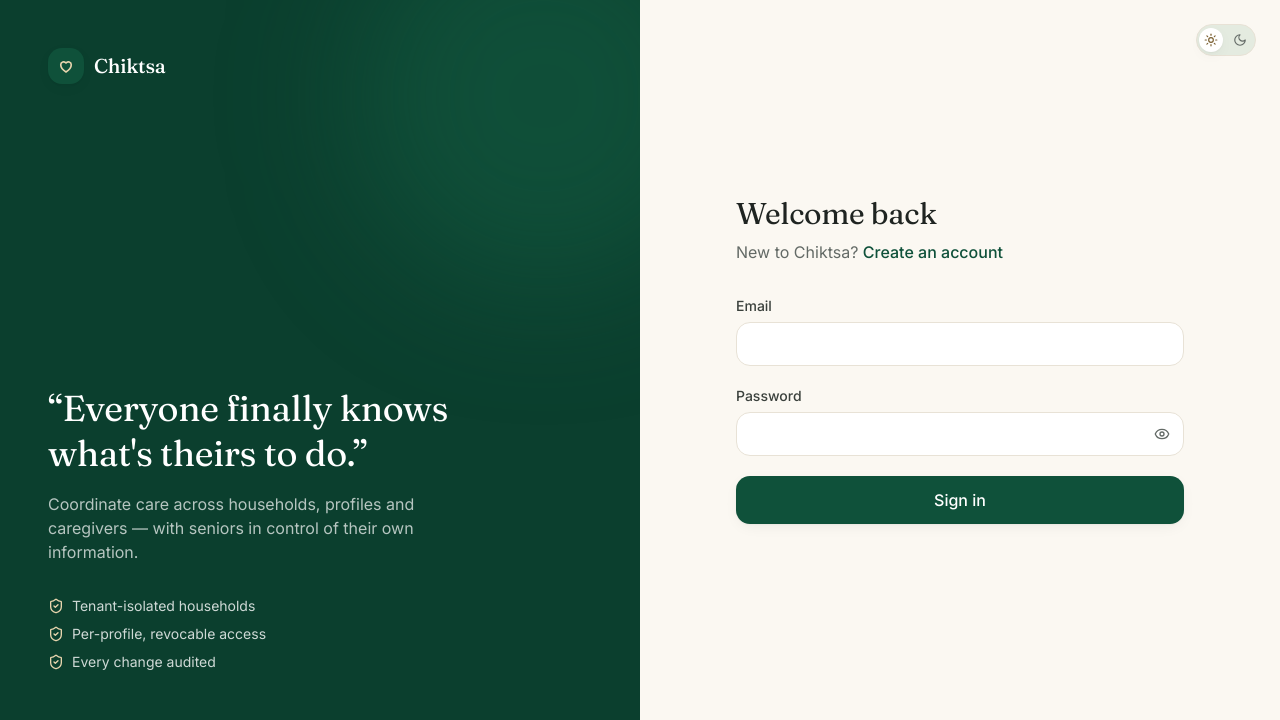
Test: LoginPage › shows the server error and stays on the page when login fails
In the field labelled "Email": (960, 344) [736,322,1184,366], type "a@example.com"
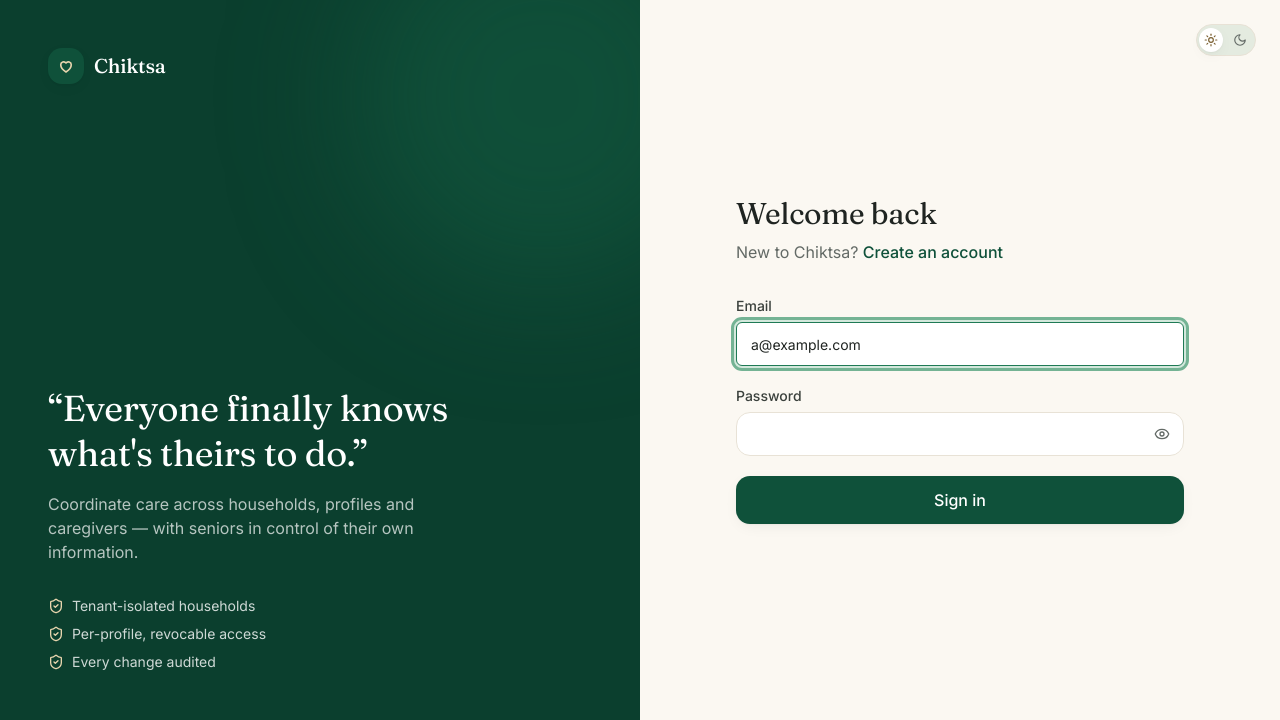
In the password field labelled "Password": (960, 434) [736,412,1184,456], type "wrongpass1"
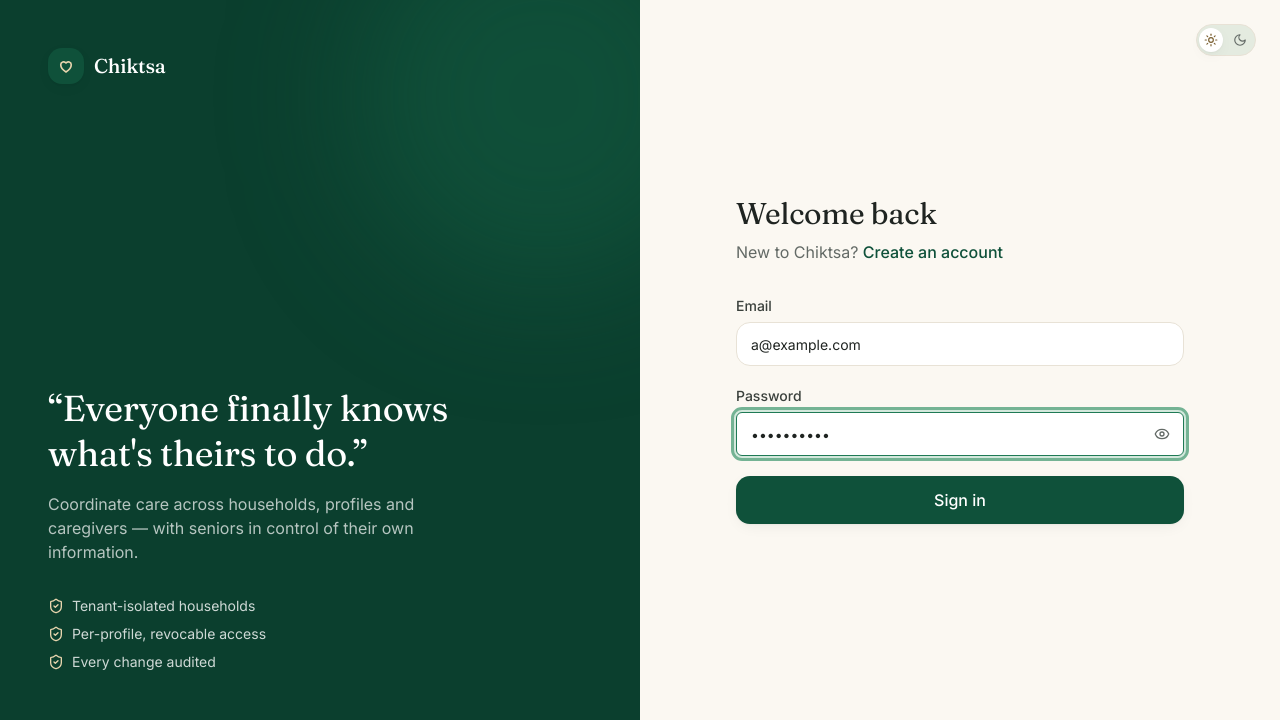
Click the button "Sign in": (960, 500) [736,476,1184,524]
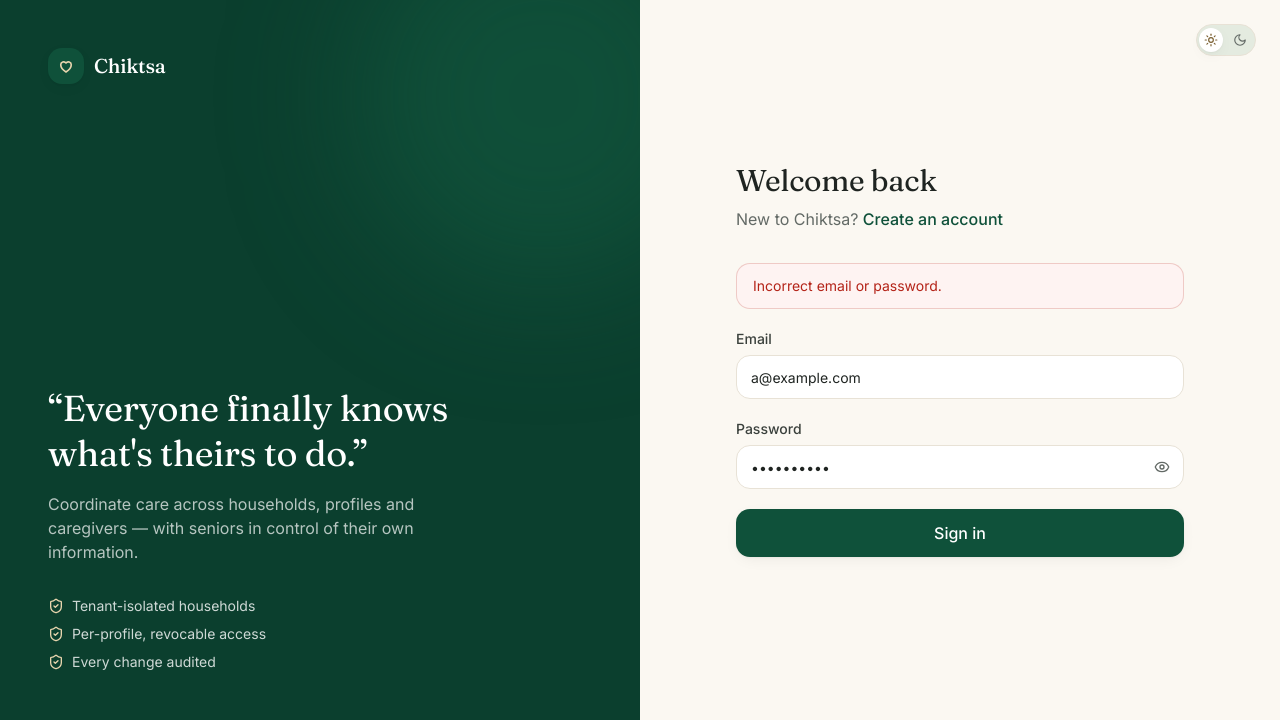
expect the message reads "Incorrect email or password.": met, box [753,277,942,294]
